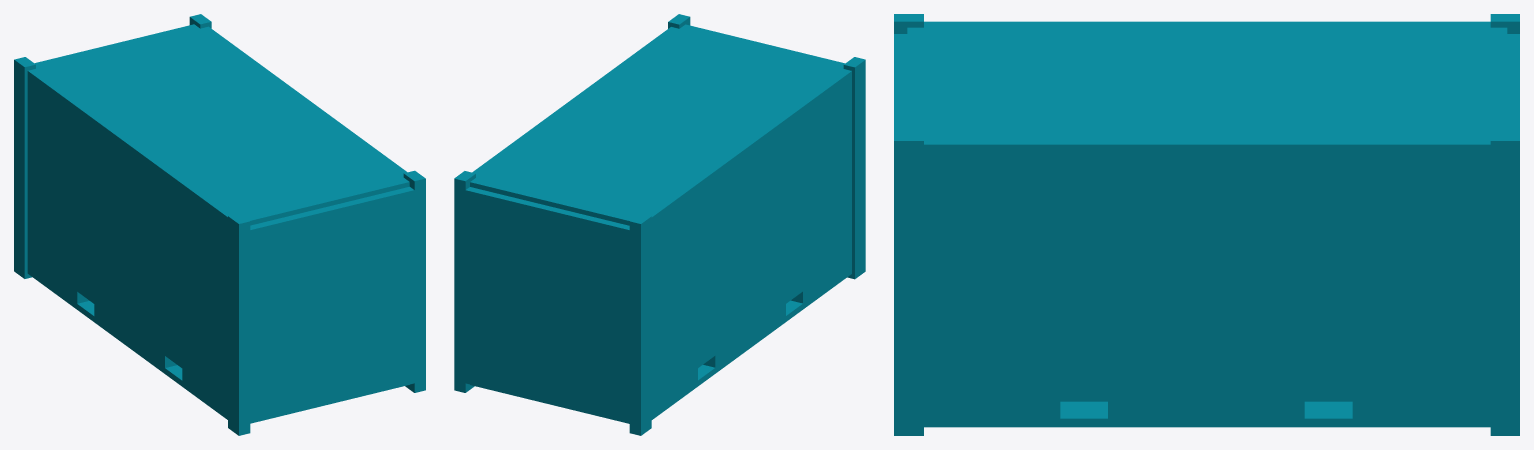
The model's file is ship_container2.fbx.
The picture shows the model from 3 angles, left to right: view 1: azimuth 30°, elevation 25°; view 2: azimuth 150°, elevation 25°; view 3: azimuth 270°, elevation 25°; orthographic projection. The views are drawn at different scales.
Parts seen in each view (by area): view 1: ship_container2; view 2: ship_container2; view 3: ship_container2.
Part boxes in pixels (<box>): ship_container2: <box>14,14,425,435</box>; ship_container2: <box>454,14,865,435</box>; ship_container2: <box>894,14,1519,435</box>.
Bounding box in the file's own units: 240 × 260 × 500.
